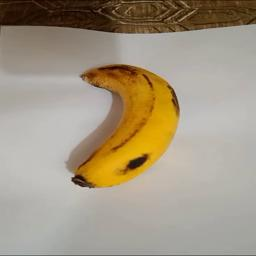Banana Semifresh: (73, 65, 179, 189)
